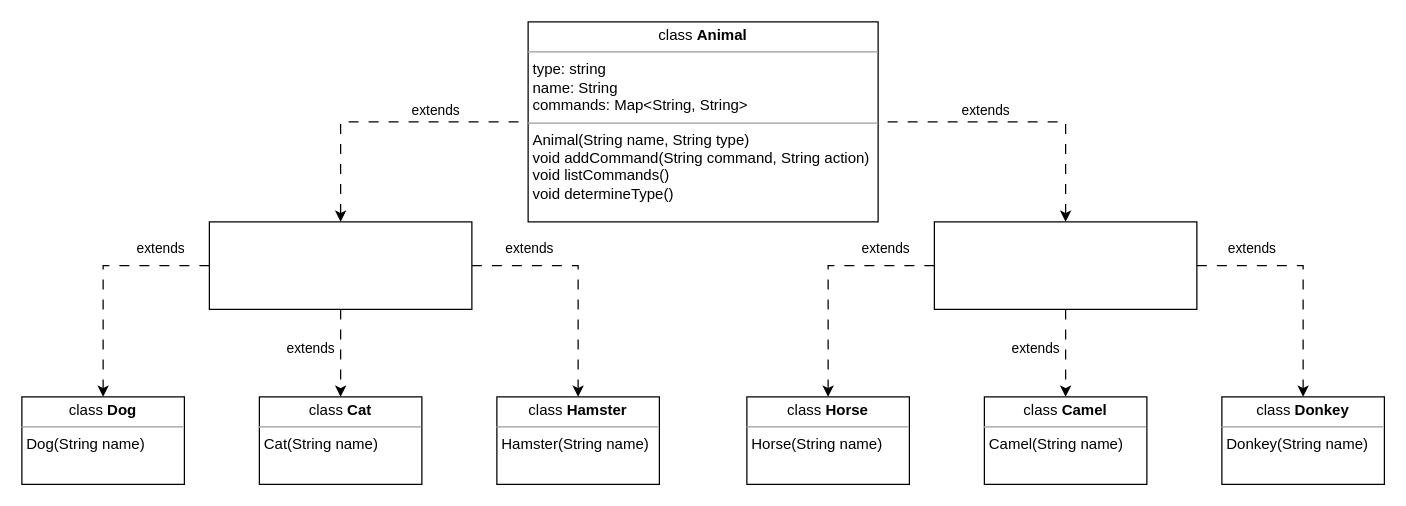
This 1406x506 diagram has some shape labels left out. The centre of each missing label's shape, as x and y in pixels:
"class PackAnimal PackAnimal(String name, String type)" goes at pixel 1065 265.
"class PetAnimal PetAnimal(String name, String type)" goes at pixel 340 265.
